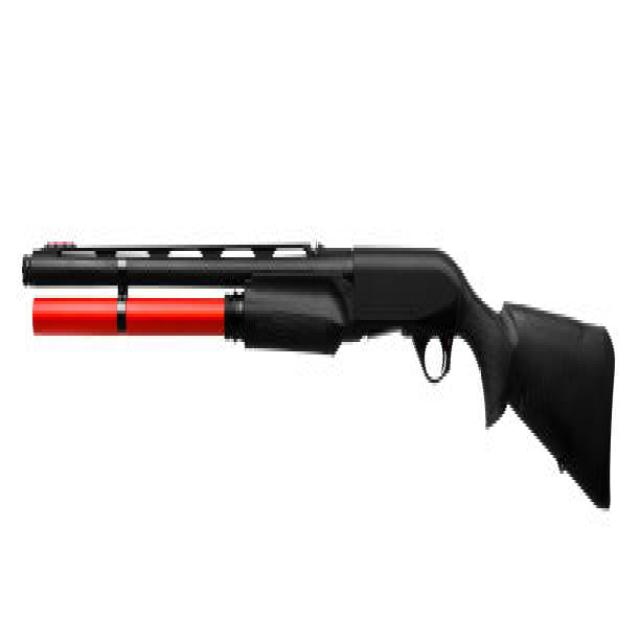rifle: (19, 212, 621, 554)
